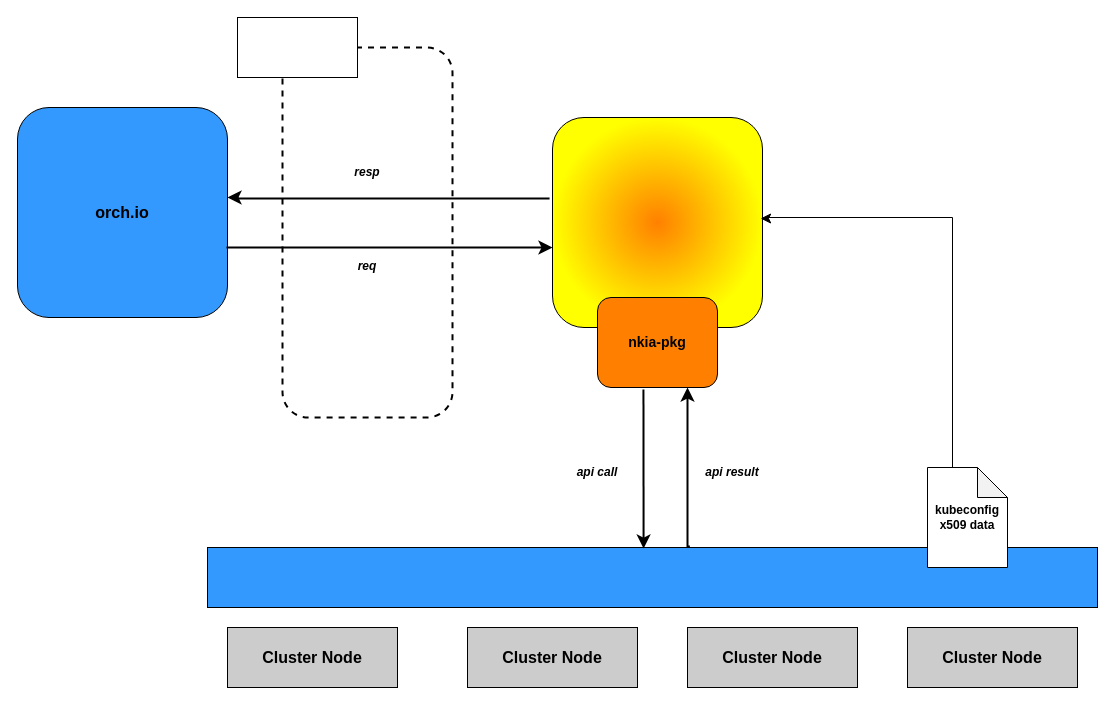
This 1115x705 diagram has some shape labels left out. The shapes that lost their labels are listed below. From the top down, each one's box as (x1, y1, x2, y2) in pixels, then its label:
(236, 16, 358, 78): KXCS Communication
(552, 116, 762, 328): nokubelet
(206, 546, 1098, 608): Kubernetes API Server
